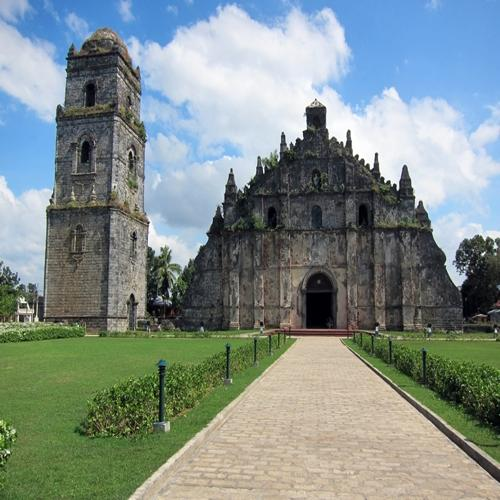Paoay Church: (37, 14, 476, 343)
